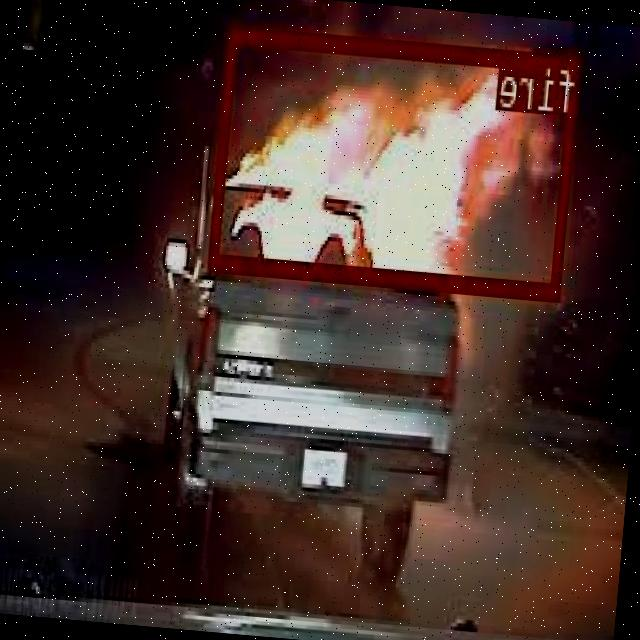fire: (210, 23, 581, 296)
